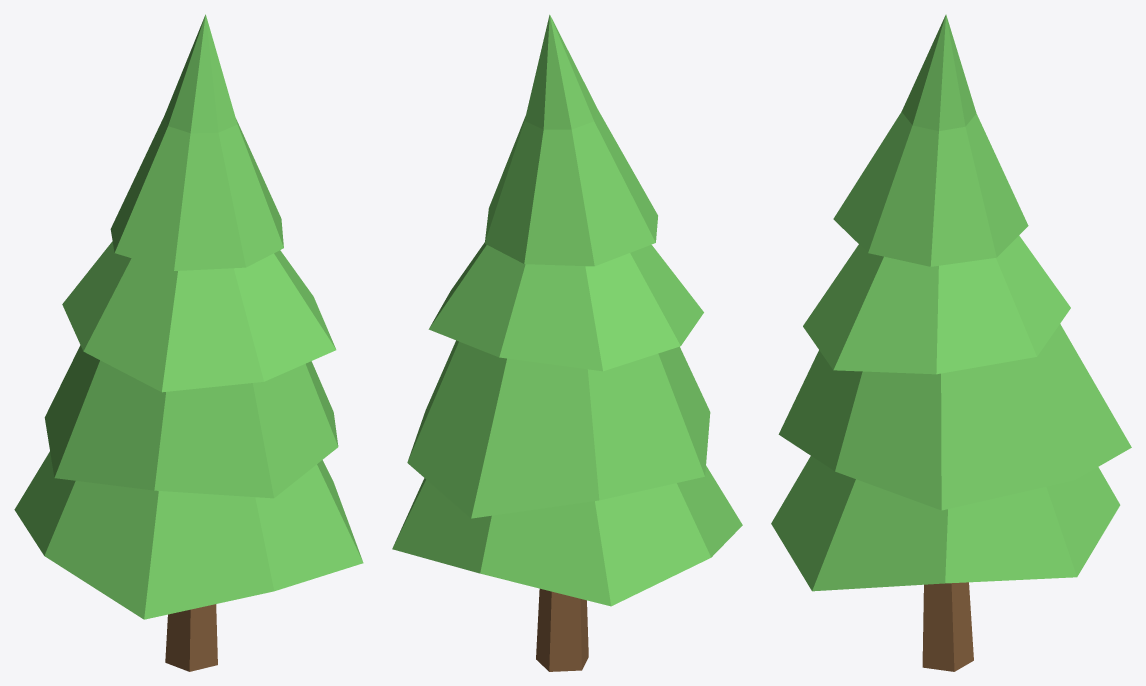
The model's file is Fir_Tree_OneSided_m_05.fbx.
3 views of the same model, side by side, from view 1: azimuth 30°, elevation 25°; view 2: azimuth 150°, elevation 25°; view 3: azimuth 270°, elevation 25° (orthographic).
Parts seen in each view (by area): view 1: Fir_Tree_OneSided_m_05; view 2: Fir_Tree_OneSided_m_05; view 3: Fir_Tree_OneSided_m_05.
Boxes of the visible parts, x1,y1,x2,y2 form: Fir_Tree_OneSided_m_05: (14,14,363,671); Fir_Tree_OneSided_m_05: (392,14,742,671); Fir_Tree_OneSided_m_05: (771,14,1131,671).
Size of the model in its own units: 295 by 627 by 314.
